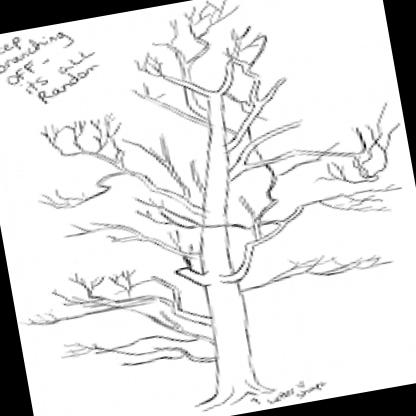trunk_straight: (202, 291, 258, 385)
